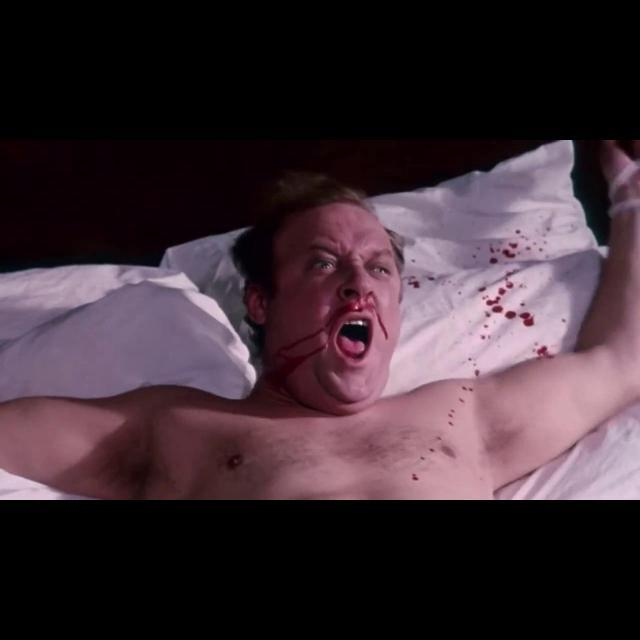blood: (403, 230, 550, 331), (264, 292, 401, 365), (452, 336, 572, 377), (460, 398, 465, 403), (413, 476, 419, 480), (449, 422, 454, 426), (430, 448, 434, 452), (470, 388, 474, 391), (449, 414, 453, 417), (452, 410, 456, 412), (438, 438, 441, 440), (452, 455, 455, 457)
